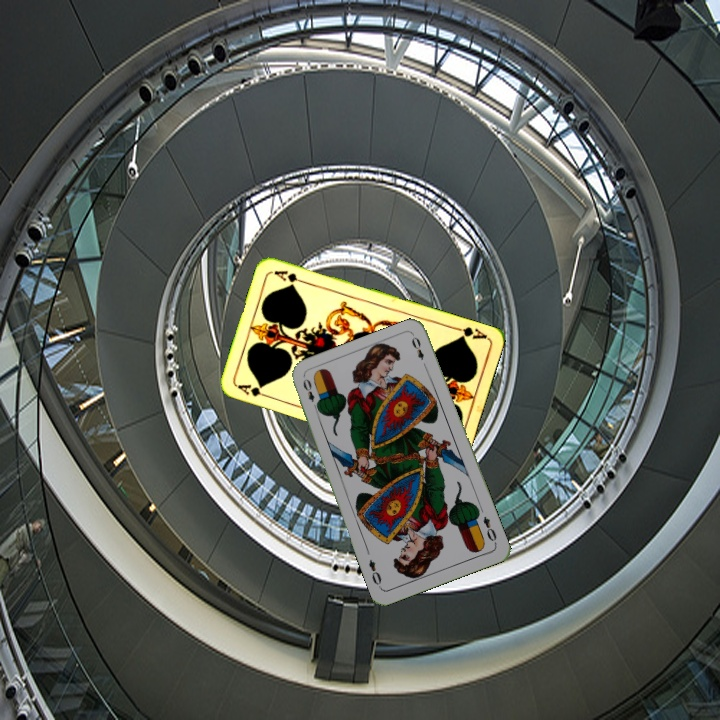EO: (299, 374, 321, 413), (479, 512, 499, 547)
GA: (233, 380, 273, 400), (449, 323, 490, 342)
